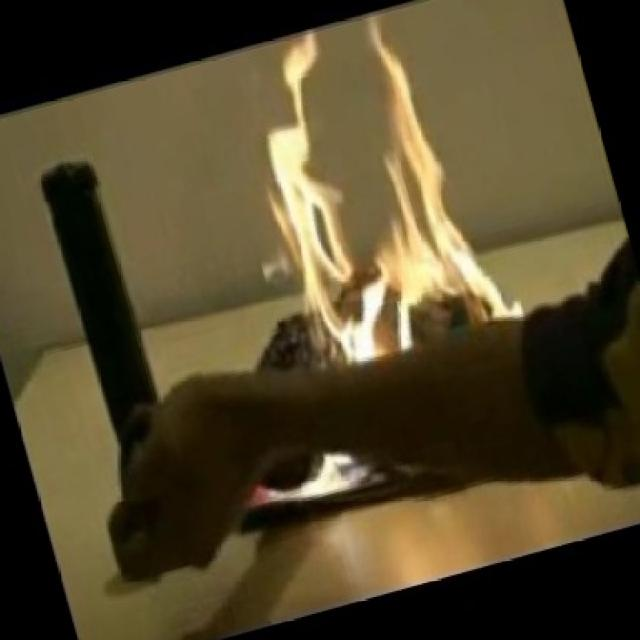fire: (207, 9, 499, 406)
